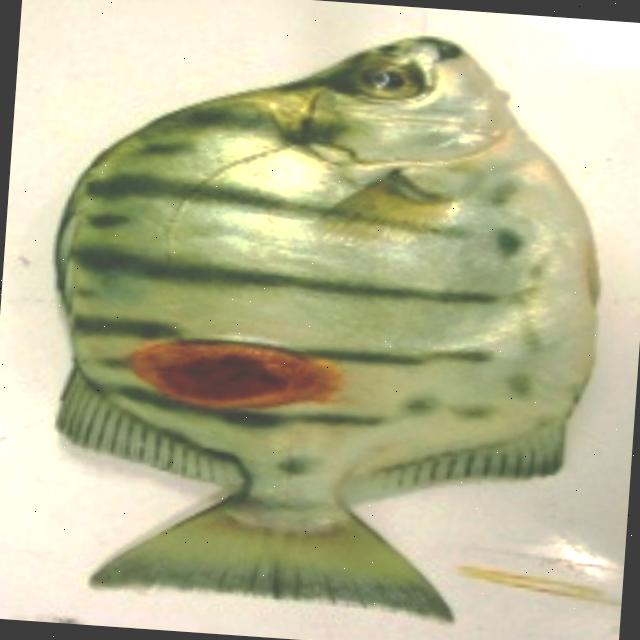Edwardsiella Ictaluri -Bacterial Red Disease-: (56, 39, 595, 621)
